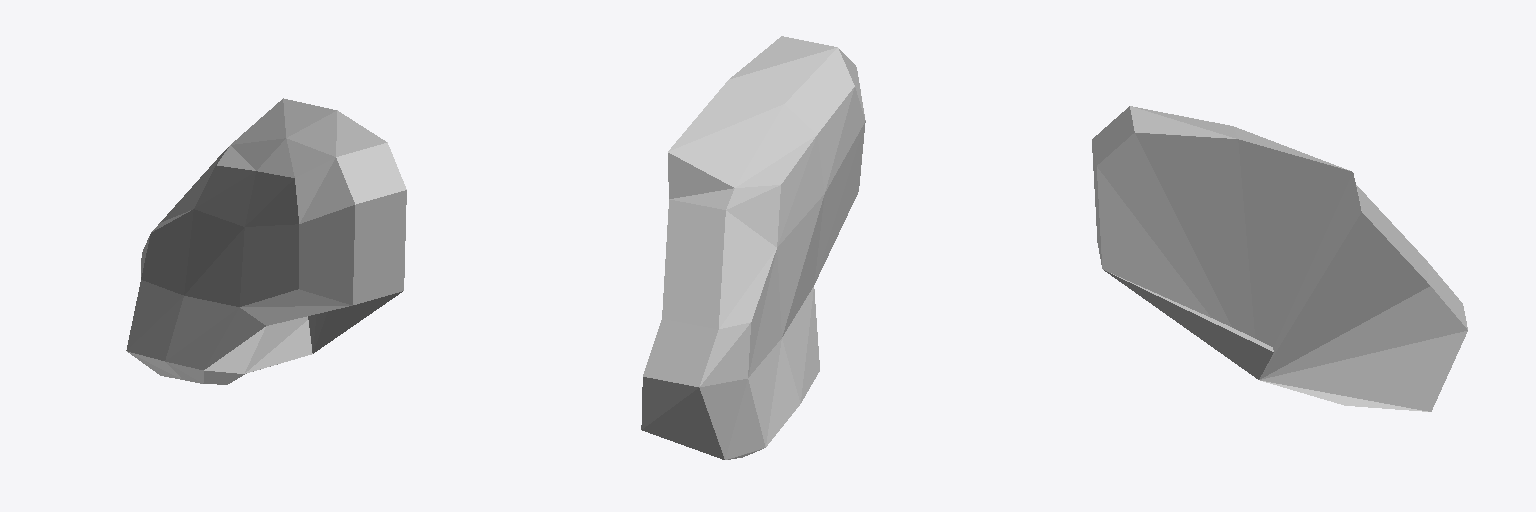
File: spinosaurusShoulderRightOfficial.obj
3 renders of one model, left to right at view 1: azimuth 30°, elevation 25°; view 2: azimuth 150°, elevation 25°; view 3: azimuth 270°, elevation 25°, orthographic.
Parts seen in each view (by area): view 1: UpperArn.left_Cube.000; view 2: UpperArn.left_Cube.000; view 3: UpperArn.left_Cube.000.
Part boxes in pixels (left/top/right/bottom): UpperArn.left_Cube.000: left=126, top=98, right=406, bottom=384; UpperArn.left_Cube.000: left=641, top=36, right=865, bottom=459; UpperArn.left_Cube.000: left=1092, top=106, right=1467, bottom=411.
Bounding box in the file's own units: 0.3504 × 0.8004 × 0.8955.